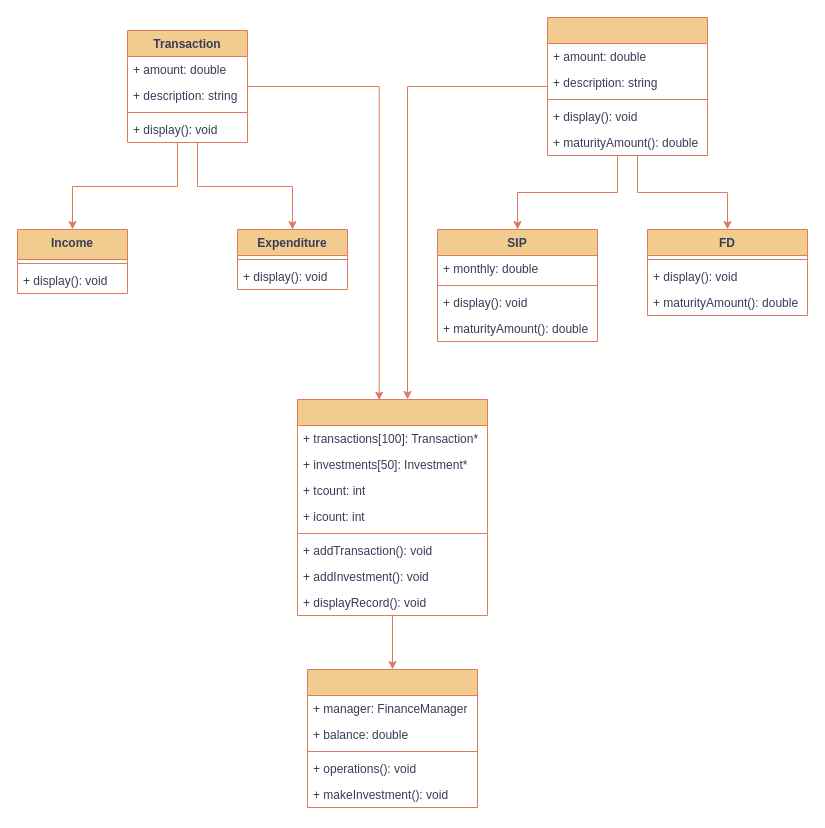
This 825x828 diagram has some shape labels left out. Here are the shapes that lost their labels. From the top down, the box of each, then its label:
(546, 16, 708, 156): Investment
(296, 398, 488, 616): FinanceManager
(306, 668, 478, 808): User
